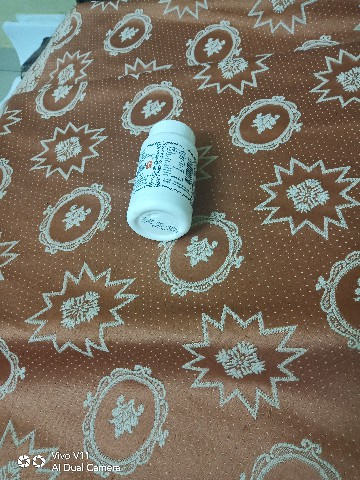lgasafoetidapowder large: (108, 88, 221, 252)
